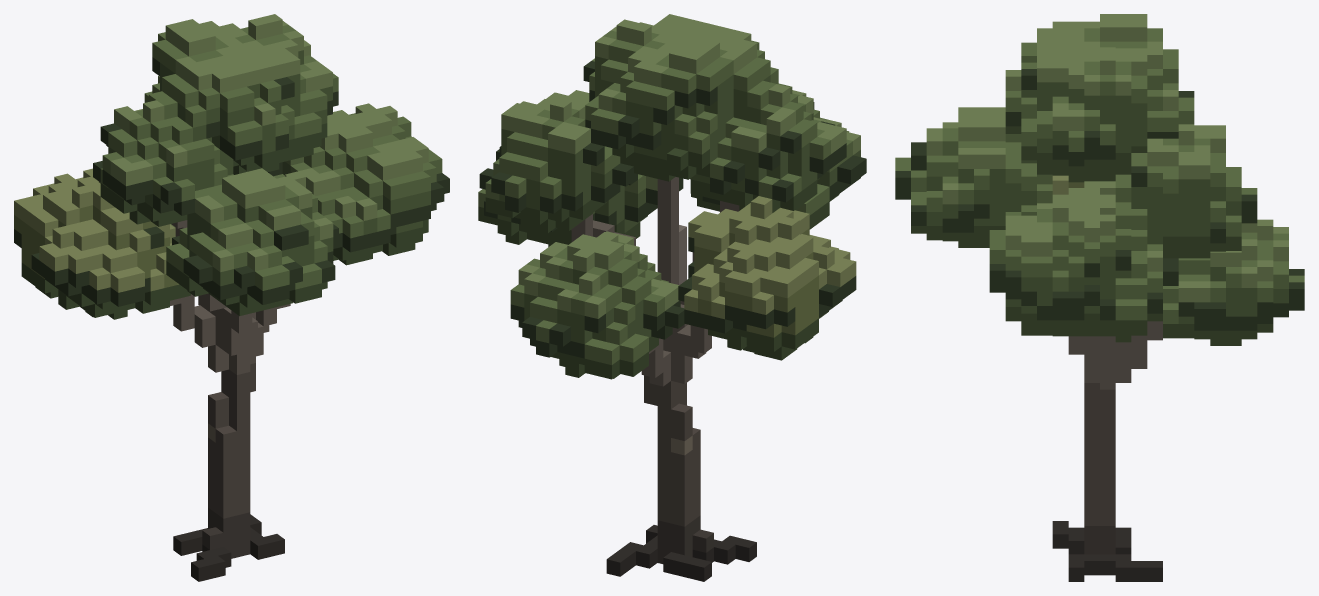
The model's file is Claude_small_leafy_tree.glb.
The picture shows the model from 3 angles, left to right: view 1: azimuth 30°, elevation 25°; view 2: azimuth 150°, elevation 25°; view 3: azimuth 270°, elevation 25°; orthographic projection.
Visible parts, largest first — view 1: Claude_small_leafy_tree; view 2: Claude_small_leafy_tree; view 3: Claude_small_leafy_tree.
Boxes of the visible parts, x1=… form: Claude_small_leafy_tree: x1=14, y1=14, x2=449, y2=581; Claude_small_leafy_tree: x1=478, y1=14, x2=866, y2=581; Claude_small_leafy_tree: x1=895, y1=14, x2=1304, y2=581.
Size of the model in its own units: 2.7 by 3.7 by 2.6.
